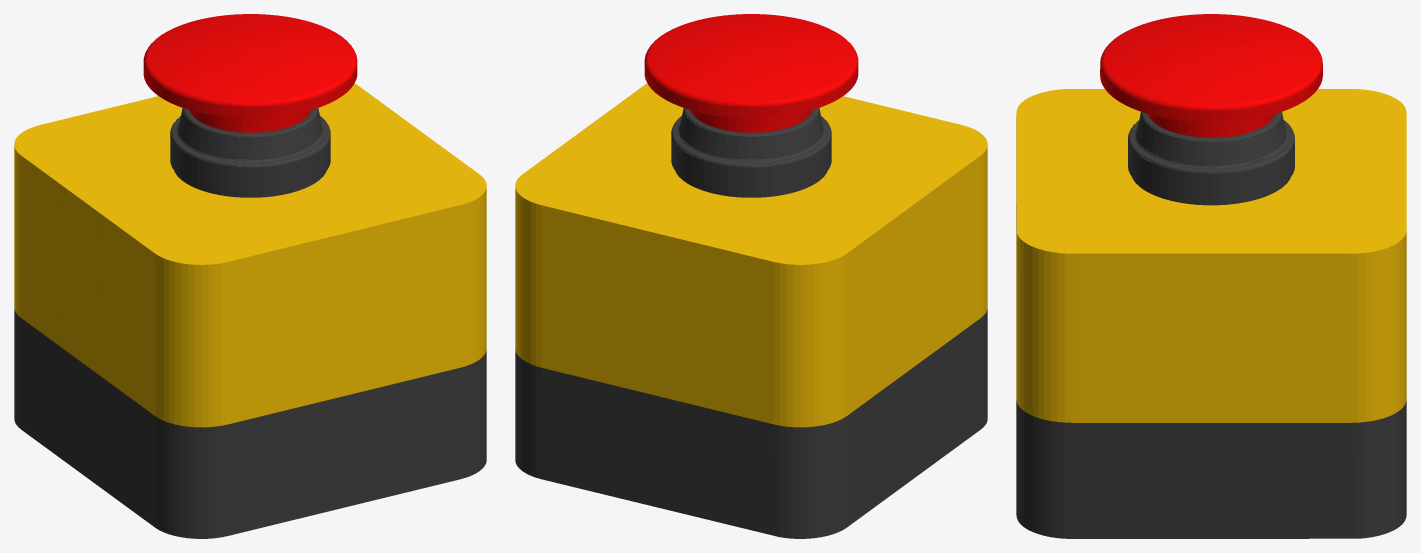
The model's file is estop-button.glb.
3 views of the same model, side by side, from view 1: azimuth 30°, elevation 25°; view 2: azimuth 150°, elevation 25°; view 3: azimuth 270°, elevation 25° (orthographic). The views are drawn at different scales.
Visible parts, largest first — view 1: part3, part0, part2; view 2: part3, part0, part2; view 3: part3, part0, part2.
Part boxes in pixels (bbox=[...]): part3: bbox=[14, 83, 486, 427]; part0: bbox=[14, 108, 486, 538]; part2: bbox=[143, 14, 357, 132]; part3: bbox=[515, 83, 987, 427]; part0: bbox=[515, 108, 987, 538]; part2: bbox=[644, 14, 858, 132]; part3: bbox=[1016, 89, 1406, 422]; part0: bbox=[1016, 112, 1406, 538]; part2: bbox=[1100, 14, 1322, 137].
Size of the model in its own units: 0.07 by 0.0805 by 0.07.
